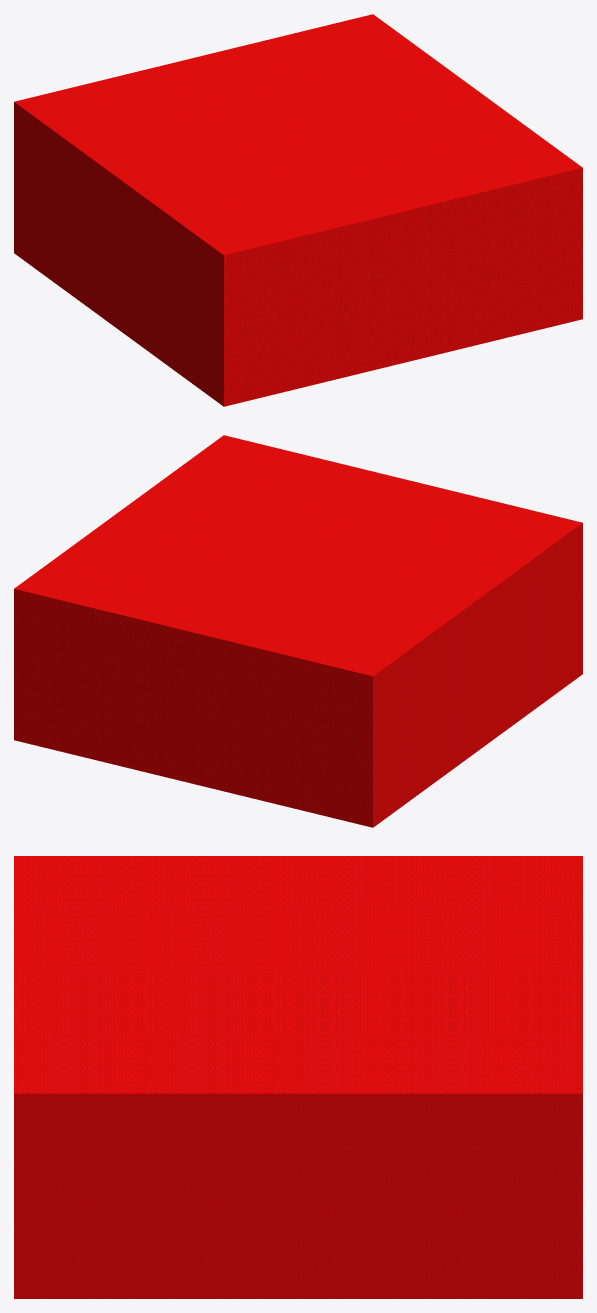
The model's file is hall.FBX.
3 views of the same model, one above another, from view 1: azimuth 30°, elevation 25°; view 2: azimuth 150°, elevation 25°; view 3: azimuth 270°, elevation 25° (orthographic). The views are drawn at different scales.
Visible parts, largest first — view 1: skybox; view 2: skybox; view 3: skybox.
Part boxes in pixels (bbox=[...]): skybox: bbox=[14, 14, 582, 406]; skybox: bbox=[14, 435, 582, 827]; skybox: bbox=[14, 856, 582, 1298].
Bounding box in the file's own units: 144 × 57.97 × 146.
Materials: 24 (23 with a texture image).
